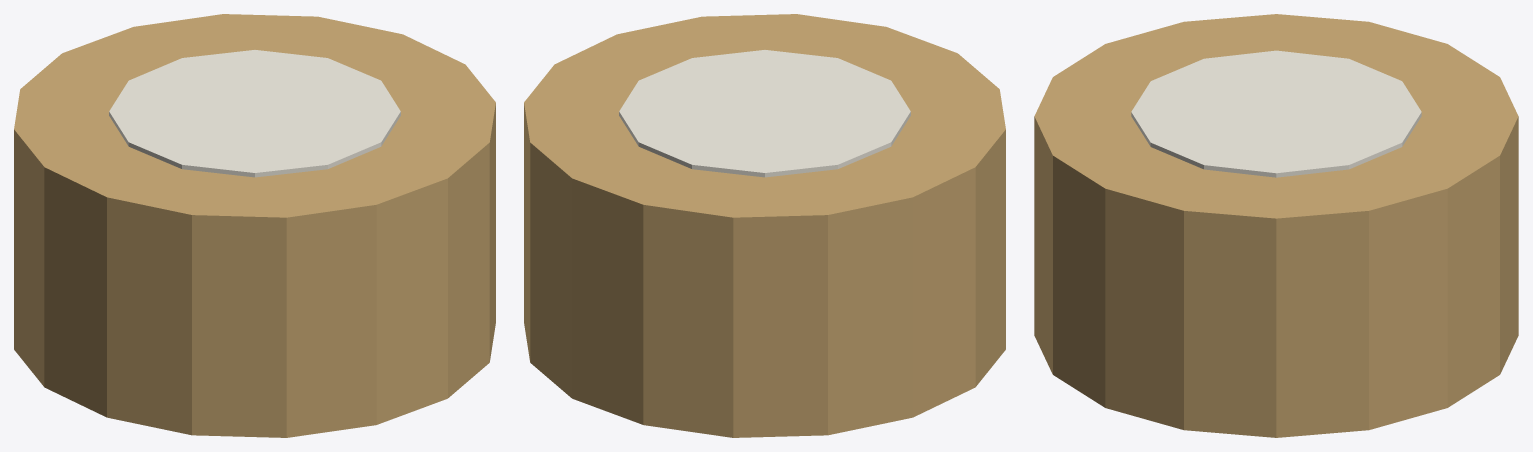
Rendered from sm_supply_tape_roll.glb.
3 renders of one model, left to right at view 1: azimuth 30°, elevation 25°; view 2: azimuth 150°, elevation 25°; view 3: azimuth 270°, elevation 25°, orthographic.
Parts seen in each view (by area): view 1: tape_roll, tape_roll_core; view 2: tape_roll, tape_roll_core; view 3: tape_roll, tape_roll_core.
Boxes of the visible parts, bbox=[...] form: tape_roll: bbox=[14, 14, 495, 437]; tape_roll_core: bbox=[109, 50, 400, 177]; tape_roll: bbox=[524, 14, 1005, 437]; tape_roll_core: bbox=[619, 50, 910, 177]; tape_roll: bbox=[1034, 14, 1518, 437]; tape_roll_core: bbox=[1131, 50, 1421, 177].
Size of what is drawn, in the model's own units: 0.1 by 0.051 by 0.1.
